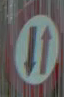Two way: (11, 6, 57, 82)
